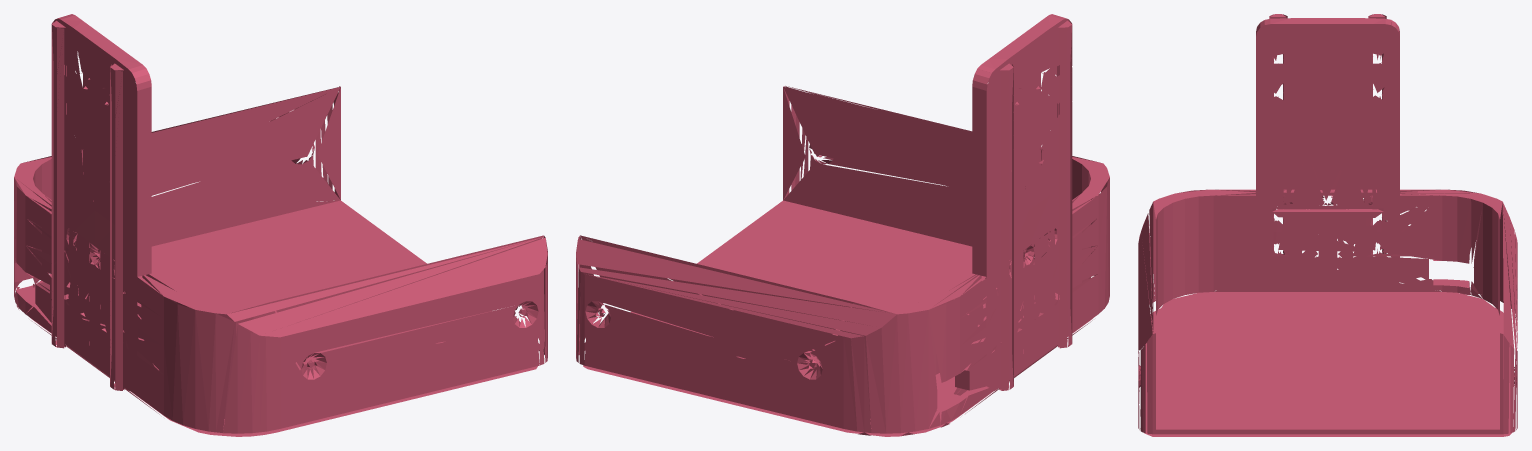
The model's file is meka_festo-chest_mount_assy.dae.
3 renders of one model, left to right at view 1: azimuth 30°, elevation 25°; view 2: azimuth 150°, elevation 25°; view 3: azimuth 270°, elevation 25°, orthographic. The views are drawn at different scales.
Parts seen in each view (by area): view 1: MB1_00_011_festo-chest_mount_assy_spacer; view 2: MB1_00_011_festo-chest_mount_assy_spacer; view 3: MB1_00_011_festo-chest_mount_assy_spacer.
Part boxes in pixels (bbox=[...]): MB1_00_011_festo-chest_mount_assy_spacer: bbox=[14, 14, 547, 436]; MB1_00_011_festo-chest_mount_assy_spacer: bbox=[576, 14, 1109, 436]; MB1_00_011_festo-chest_mount_assy_spacer: bbox=[1138, 14, 1517, 436].
Size of the model in its own units: 0.1952 by 0.2105 by 0.17.
